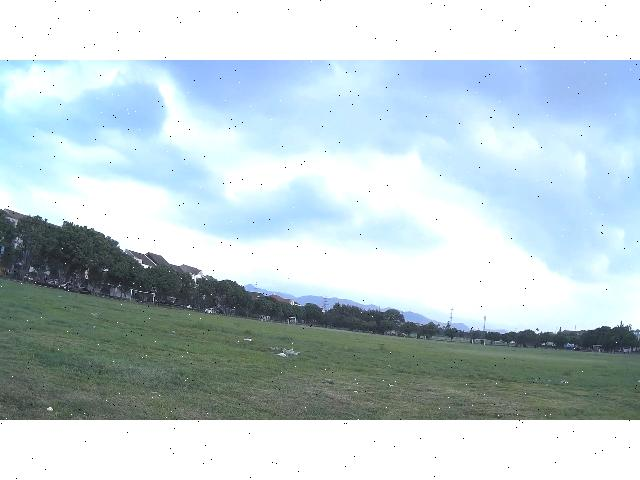Anti-Drone: (284, 269, 300, 286)
